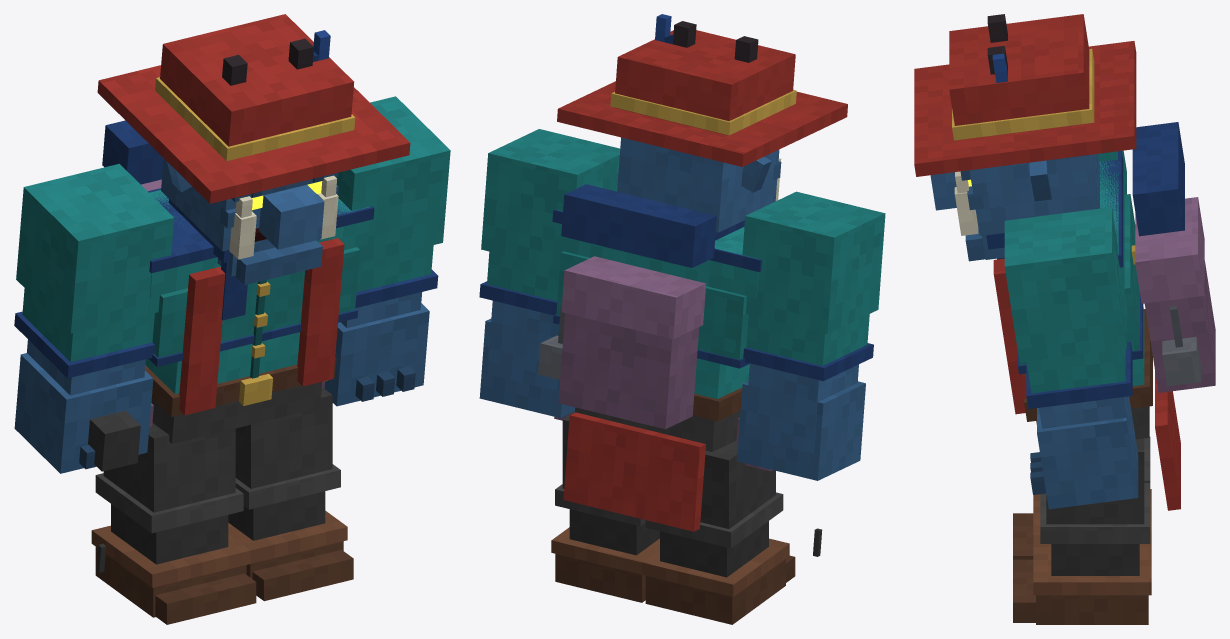
The model's file is ogre_marchand_v3.glb.
3 renders of one model, left to right at view 1: azimuth 30°, elevation 25°; view 2: azimuth 150°, elevation 25°; view 3: azimuth 270°, elevation 25°, orthographic. The views are drawn at different scales.
Visible parts, largest first — view 1: Head, ArmR, Torso, LegR, ArmL, LegL, HandR; view 2: Torso, ArmR, Head, ArmL, LegR, LegL; view 3: Head, ArmL, Torso, LegL, LegR.
Part boxes in pixels (bbox=[...]): Head: bbox=[97, 14, 410, 285]; ArmR: bbox=[14, 163, 174, 473]; Torso: bbox=[102, 120, 374, 443]; LegR: bbox=[91, 423, 256, 624]; ArmL: bbox=[324, 96, 450, 406]; LegL: bbox=[228, 387, 353, 601]; HandR: bbox=[88, 410, 140, 572]; Torso: bbox=[538, 184, 772, 531]; ArmR: bbox=[737, 191, 885, 480]; Head: bbox=[557, 14, 847, 240]; ArmL: bbox=[479, 129, 620, 417]; LegR: bbox=[642, 440, 795, 624]; LegL: bbox=[551, 411, 659, 602]; Head: bbox=[914, 14, 1136, 261]; ArmL: bbox=[1004, 207, 1138, 509]; Torso: bbox=[993, 122, 1215, 510]; LegL: bbox=[1013, 438, 1151, 624]; LegR: bbox=[1013, 437, 1151, 559].
Bounding box in the file's own units: 1.46 × 2.1 × 1.04.
Materials: 36 (36 with a texture image).
